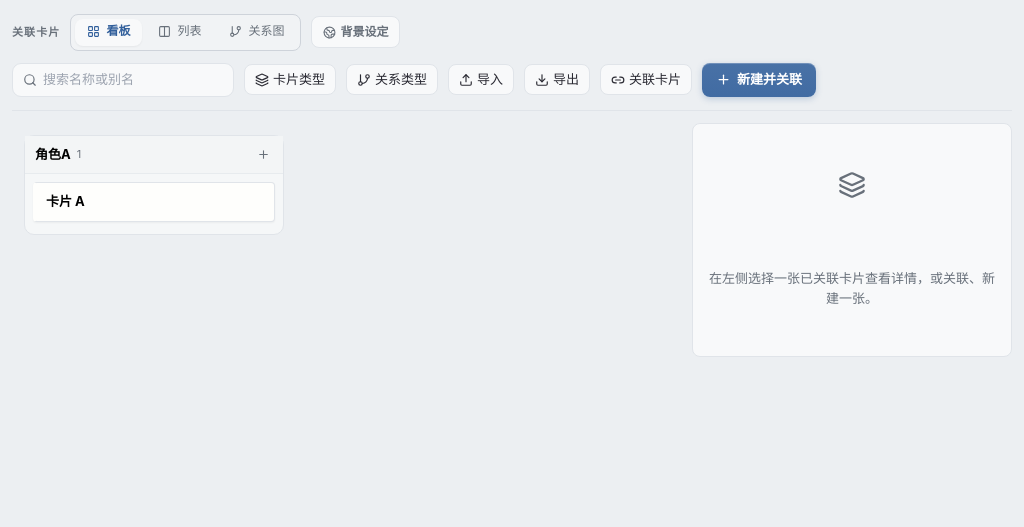
it: CardsPage 跨项目竞态与状态清空 › 切换项目后旧 cards/relations/selection/draft/loading 立即清空
# 选中 A 的卡片进入详情，并打开编辑草稿
Click the text "卡片 A" at x=65, y=201, box [46,193,85,209]
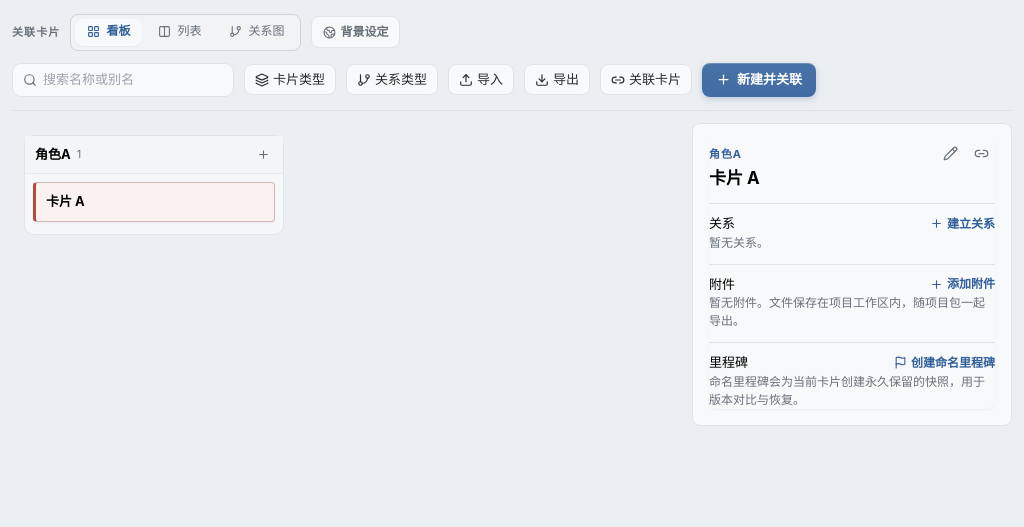
Result: the button titled "编辑" is shown
Click the button titled "编辑" at x=950, y=153, box [937,140,964,166]
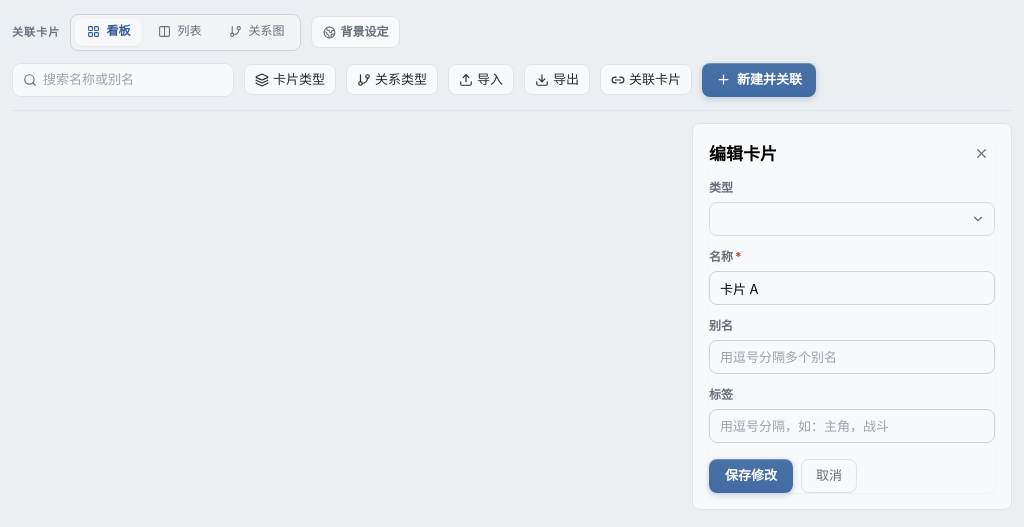
Result: the heading "编辑卡片" is shown at [709,142,777,167]
